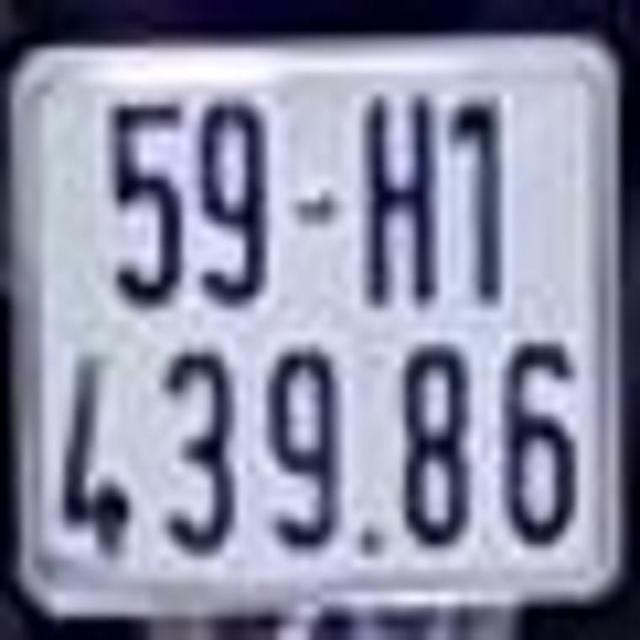1: (451, 91, 512, 296)
3: (156, 348, 240, 552)
4: (60, 354, 142, 541)
5: (109, 106, 182, 304)
6: (503, 339, 576, 544)
8: (398, 342, 462, 542)
9: (196, 100, 266, 302), (270, 347, 334, 544)
H: (362, 89, 440, 306)
